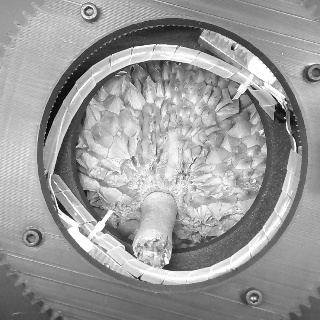base: (140, 183, 188, 221)
end: (132, 234, 172, 269)
